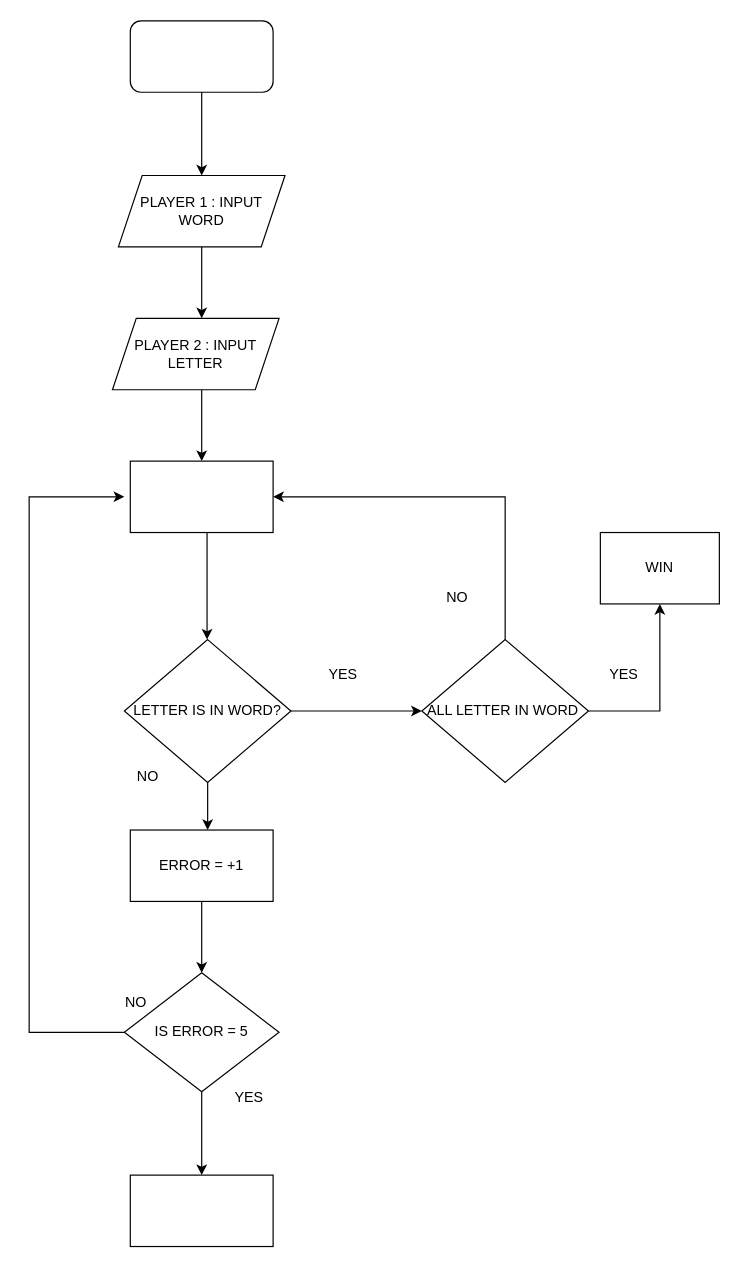
The diagram is 740 pixels wide and 1267 high, and some of its shapes have lost their labels. Each missing label, with the centre of its shape:
LOSE: the point at 201,1210
PLAYER 2 : INPUT ONE LETTER: the point at 201,496
START: the point at 201,56
